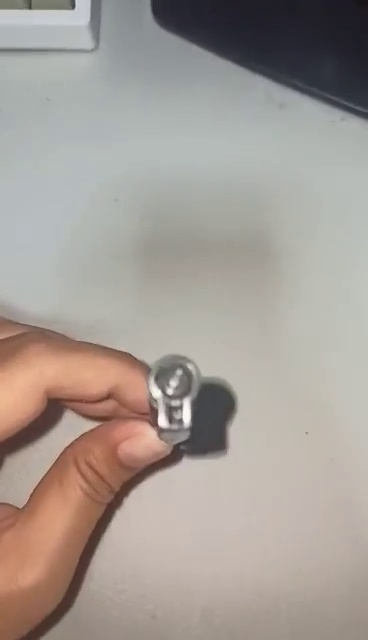ballpen: (146, 353, 201, 442)
hand: (1, 326, 181, 640)
